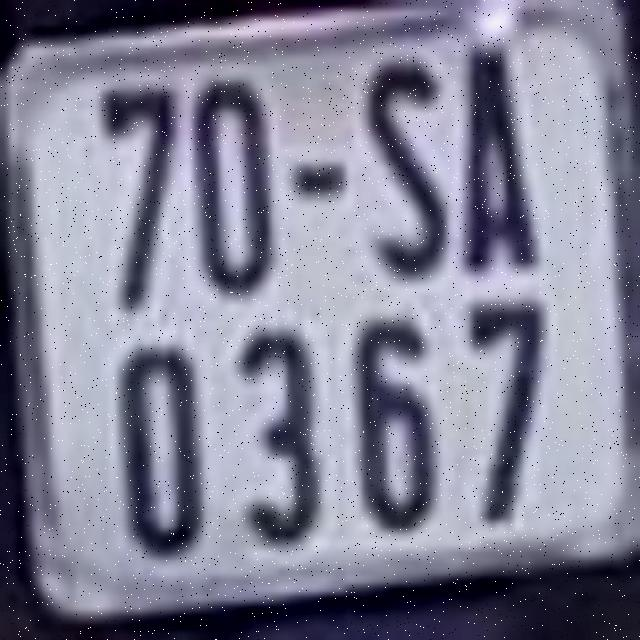0: (117, 339, 206, 556), (192, 77, 275, 296)
3: (232, 322, 322, 548)
6: (354, 308, 438, 532)
7: (464, 292, 548, 527), (96, 82, 180, 311)
A: (458, 42, 544, 278)
S: (362, 52, 450, 278)
